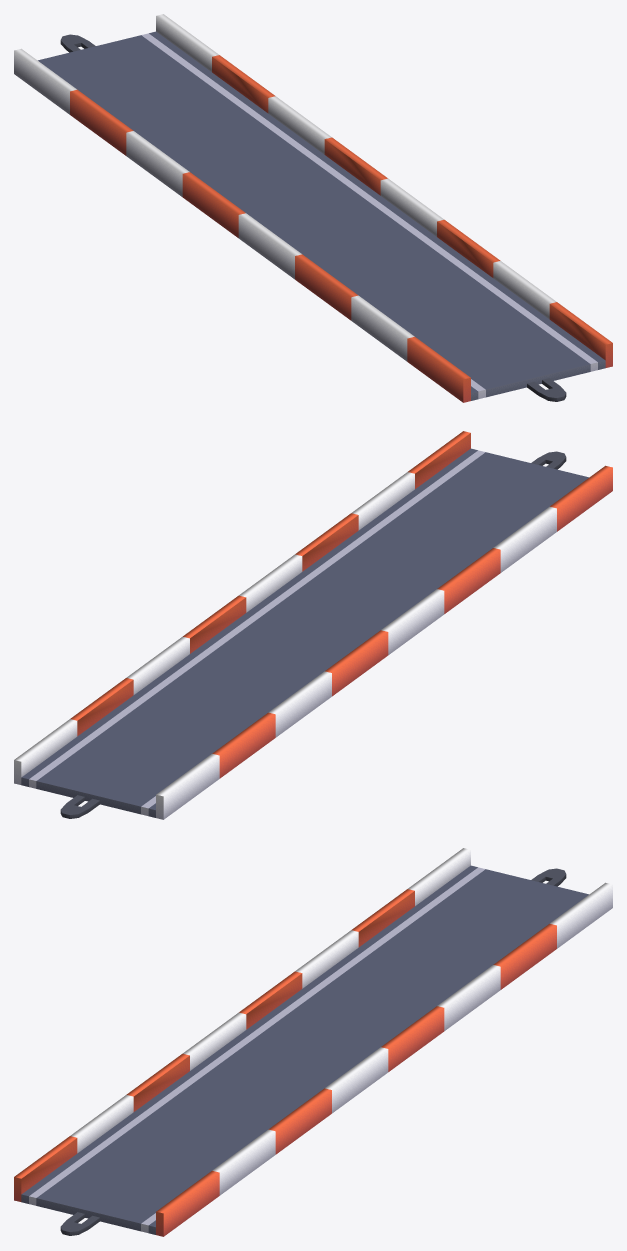
The model's file is track-road-wide-straight.012_lev1.glb.
3 views of the same model, one above another, from view 1: azimuth 30°, elevation 25°; view 2: azimuth 150°, elevation 25°; view 3: azimuth 330°, elevation 25° (orthographic).
Visible parts, largest first — view 1: track-road-wide-straight.012_lev1; view 2: track-road-wide-straight.012_lev1; view 3: track-road-wide-straight.012_lev1.
Part boxes in pixels (box(x1,y1,x2,y2)): track-road-wide-straight.012_lev1: box(14, 14, 612, 402); track-road-wide-straight.012_lev1: box(14, 431, 612, 819); track-road-wide-straight.012_lev1: box(14, 848, 612, 1236).
Bounding box in the file's own units: 2 × 0.3 × 11.45.
Materials: 1 (1 with a texture image).
